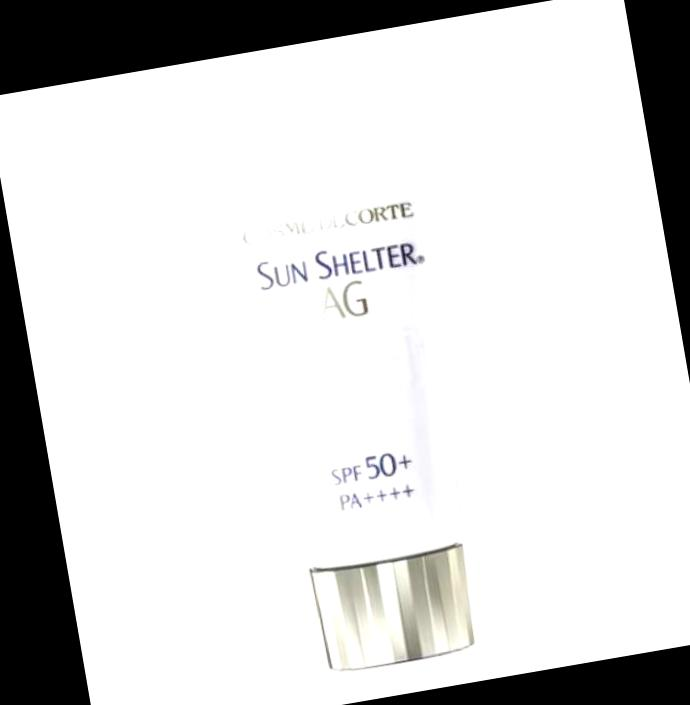cosmetic: (198, 75, 512, 682)
